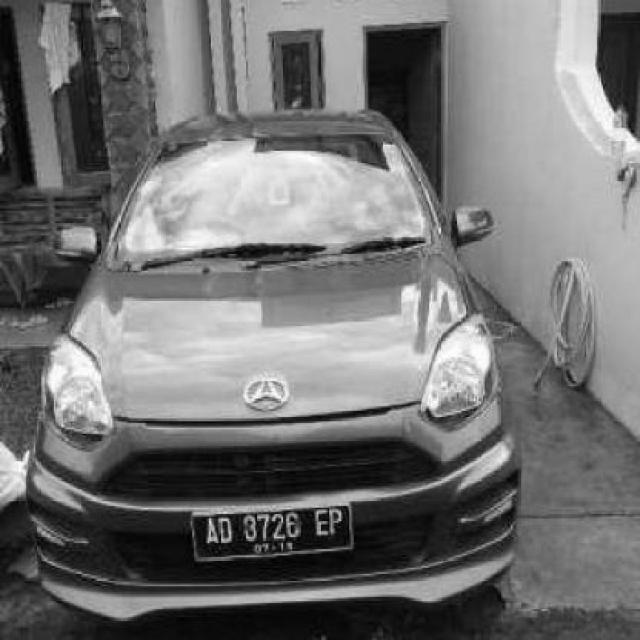2: (272, 511, 286, 544)
3: (241, 516, 260, 542)
6: (284, 511, 308, 533)
7: (262, 511, 270, 540)
A: (204, 518, 218, 548)
D: (216, 516, 234, 545)
E: (311, 506, 328, 540)
P: (332, 509, 347, 537)
